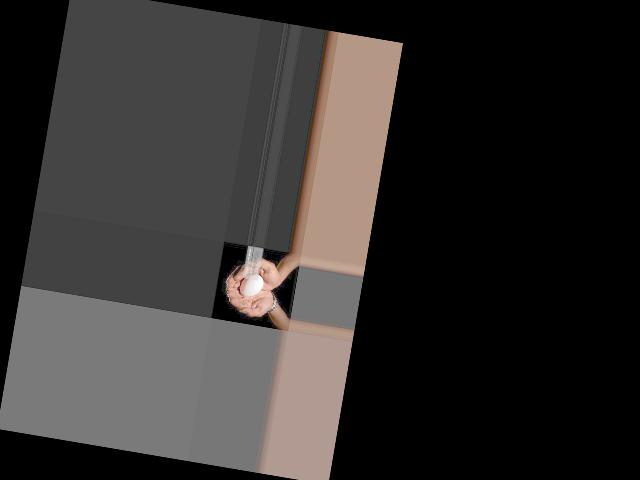egg: (238, 272, 264, 299)
